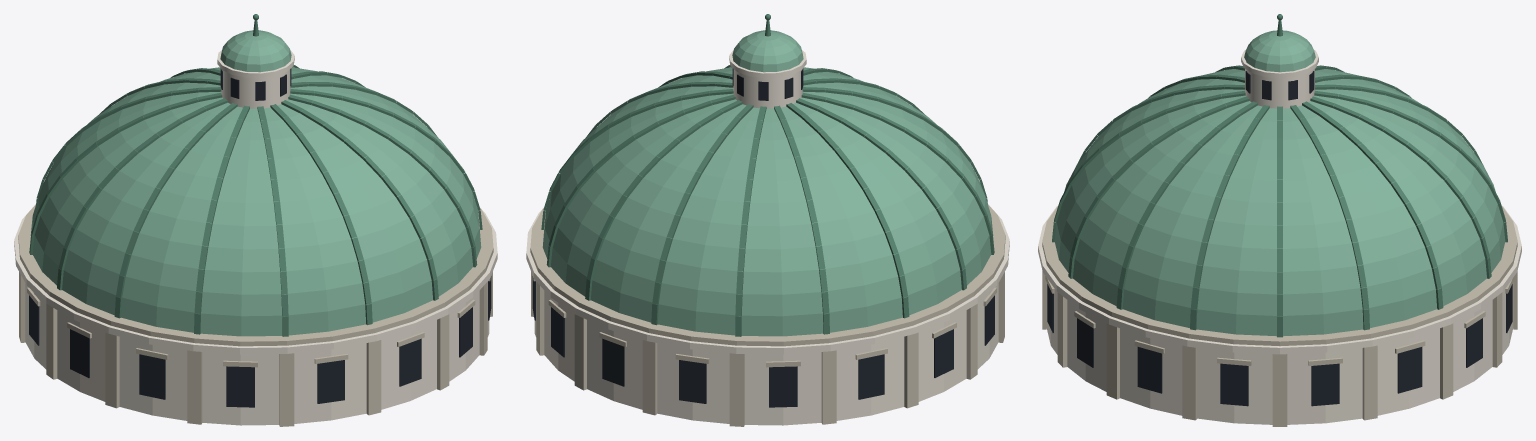
The model's file is im_copper_dome.glb.
3 renders of one model, left to right at view 1: azimuth 30°, elevation 25°; view 2: azimuth 150°, elevation 25°; view 3: azimuth 270°, elevation 25°, orthographic.
Parts seen in each view (by area): view 1: im_copper_dome; view 2: im_copper_dome; view 3: im_copper_dome.
Boxes of the visible parts, x1,y1,x2,y2 form: im_copper_dome: [14, 14, 497, 426]; im_copper_dome: [526, 14, 1009, 426]; im_copper_dome: [1038, 14, 1521, 426].
Size of the model in its own units: 23.6 by 16.81 by 23.6.
